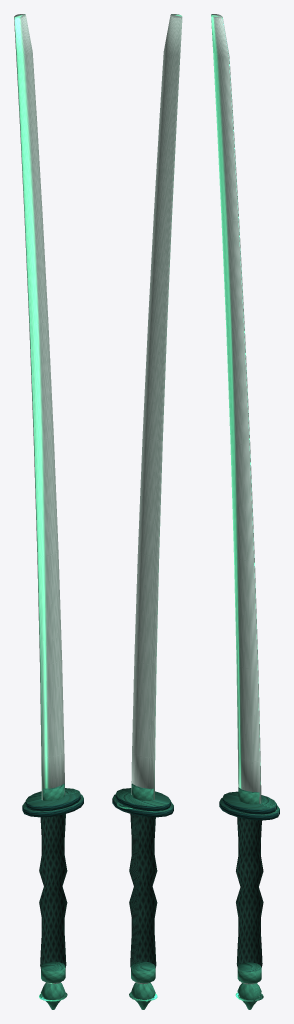
The model's file is sword_04_jade_anima.glb.
3 renders of one model, left to right at view 1: azimuth 30°, elevation 25°; view 2: azimuth 150°, elevation 25°; view 3: azimuth 330°, elevation 25°, orthographic.
Visible parts, largest first — view 1: Blade_JadeAnimaKatana, Grip_TsukaJadeWrap, Tsuba_JadeAnimaRings, Ferrule_JadeFittings, Pommel_KashiraJadeCap; view 2: Blade_JadeAnimaKatana, Grip_TsukaJadeWrap, Tsuba_JadeAnimaRings, Ferrule_JadeFittings, Pommel_KashiraJadeCap; view 3: Blade_JadeAnimaKatana, Grip_TsukaJadeWrap, Tsuba_JadeAnimaRings, Ferrule_JadeFittings, Pommel_KashiraJadeCap.
Part boxes in pixels (bbox=[...]): Blade_JadeAnimaKatana: bbox=[14, 14, 65, 800]; Grip_TsukaJadeWrap: bbox=[39, 814, 67, 984]; Tsuba_JadeAnimaRings: bbox=[22, 788, 83, 817]; Ferrule_JadeFittings: bbox=[41, 783, 65, 983]; Pommel_KashiraJadeCap: bbox=[39, 982, 67, 1009]; Blade_JadeAnimaKatana: bbox=[131, 14, 182, 799]; Grip_TsukaJadeWrap: bbox=[129, 814, 157, 984]; Tsuba_JadeAnimaRings: bbox=[112, 788, 173, 817]; Ferrule_JadeFittings: bbox=[131, 783, 155, 983]; Pommel_KashiraJadeCap: bbox=[129, 982, 157, 1009]; Blade_JadeAnimaKatana: bbox=[211, 14, 261, 803]; Grip_TsukaJadeWrap: bbox=[236, 817, 263, 984]; Tsuba_JadeAnimaRings: bbox=[219, 791, 279, 820]; Ferrule_JadeFittings: bbox=[237, 787, 261, 983]; Pommel_KashiraJadeCap: bbox=[235, 983, 263, 1009].
Bounding box in the file's own units: 0.1848 × 2.6 × 0.1039.
Materials: 1 (1 with a texture image).
